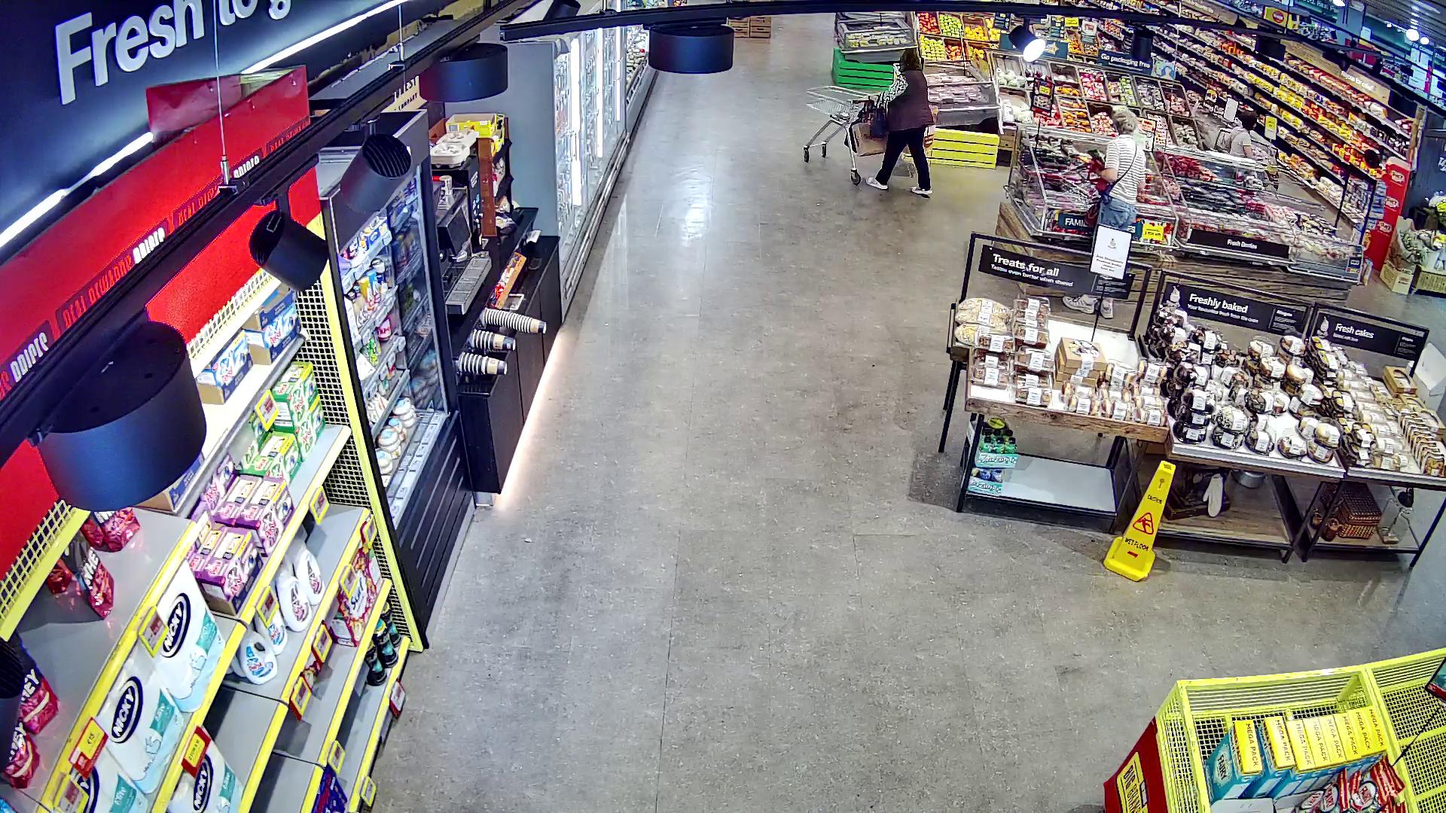backpack-or-handbag: (870, 107, 887, 137)
empty-trolly: (803, 85, 872, 185)
filled-shopping-bags: (844, 117, 887, 158)
person: (867, 49, 933, 195)
person-with-basket-trolly-shopping-bag-s-and-backpack-handbag: (803, 49, 933, 195)
